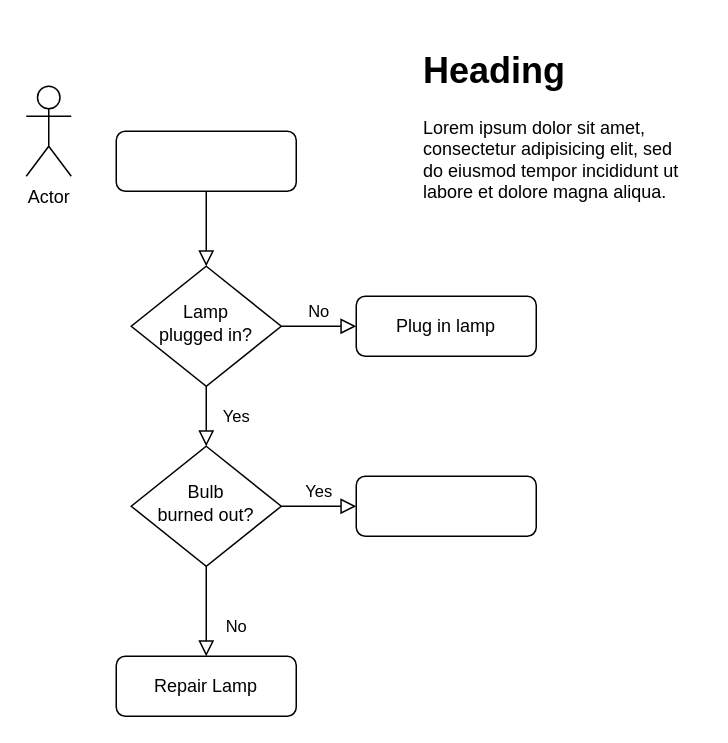
This 728x743 diagram has some shape labels left out. The box of each missing label's shape, as (x1, y1, x2, y2) in pixels:
Lamp doesn't work: (115, 130, 296, 191)
Replace Bulb: (355, 475, 536, 536)
